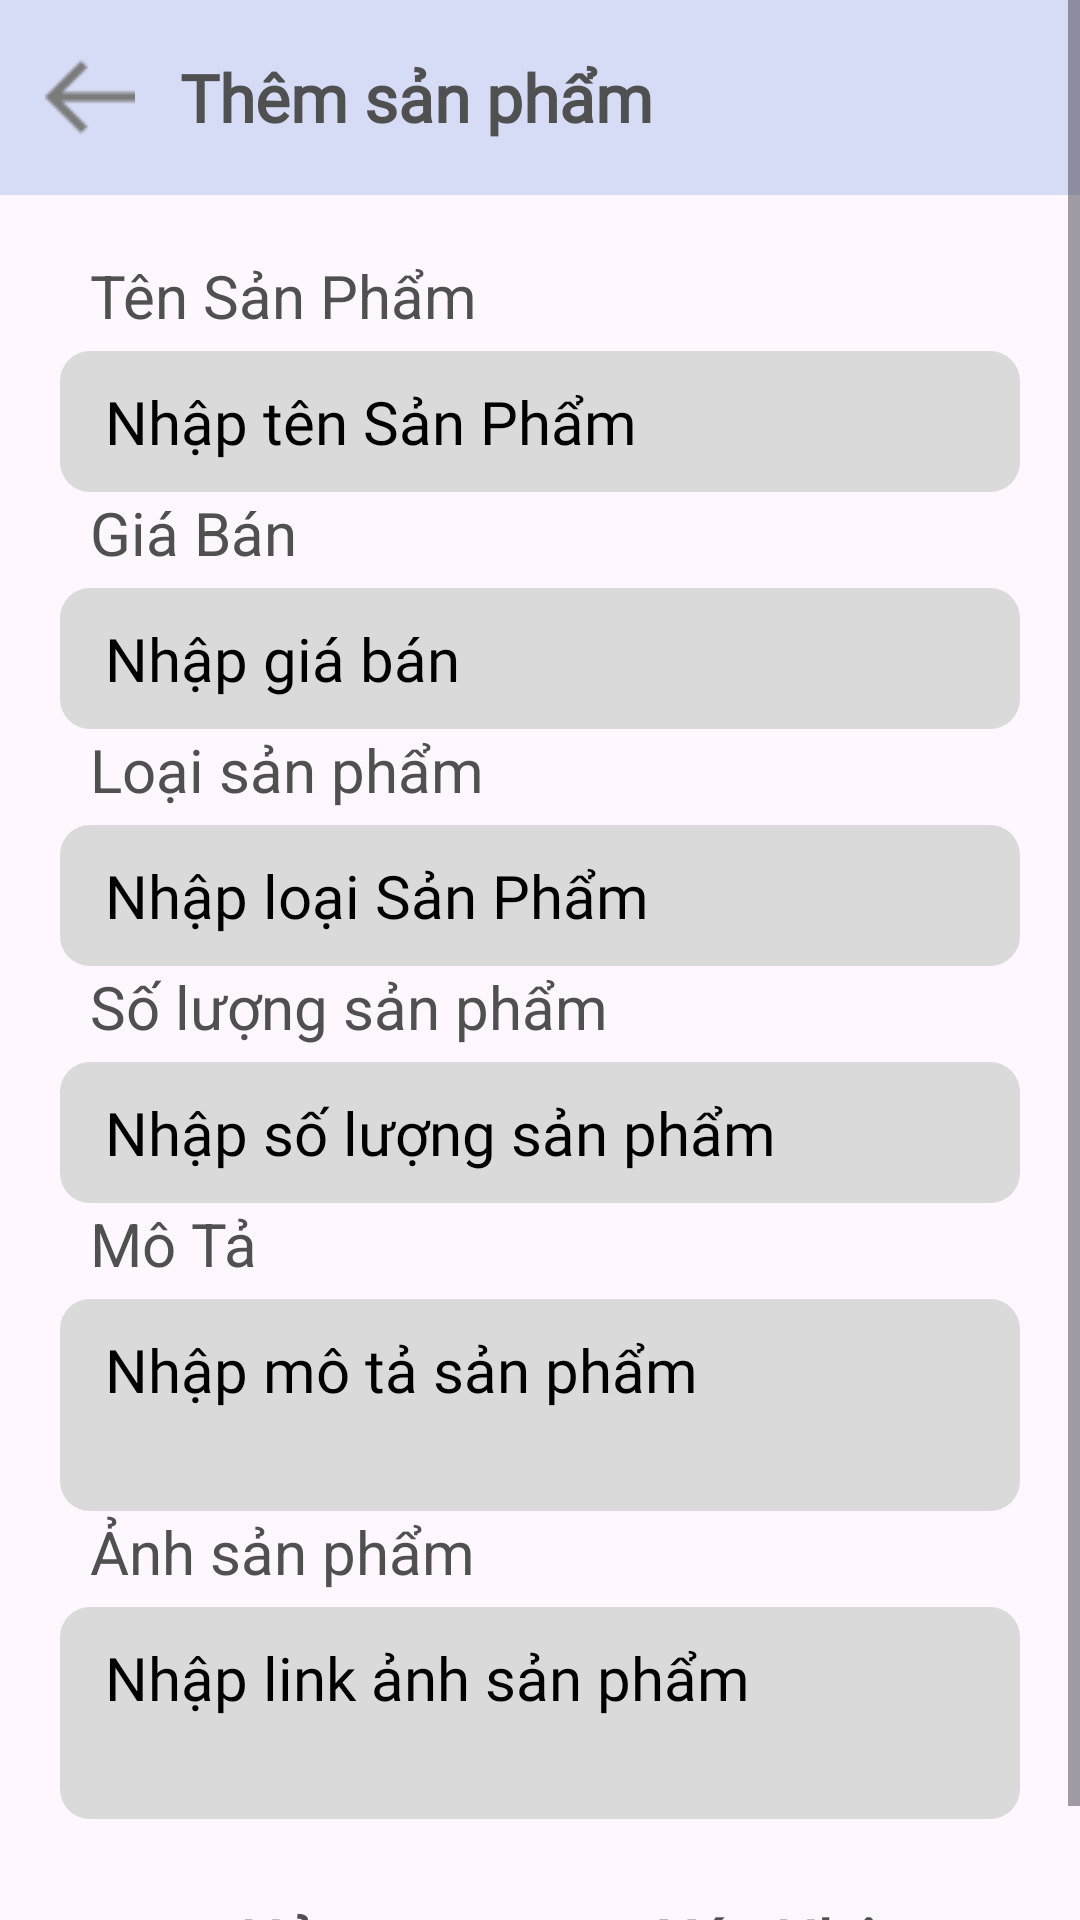

Named icons in this screenshot (1080 × 1920) and their bounding boxes, (x1, y1, x2, y2):
leftarrow: (45, 60, 135, 134)
